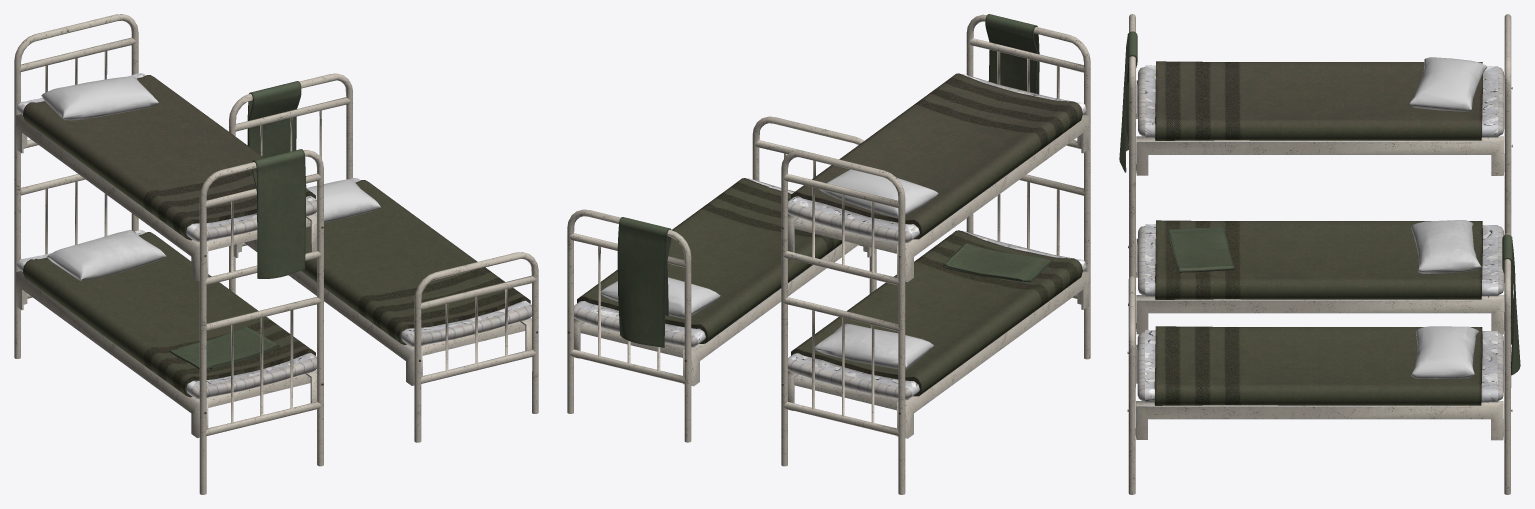
File: beds.glb
3 views of the same model, side by side, from view 1: azimuth 30°, elevation 25°; view 2: azimuth 150°, elevation 25°; view 3: azimuth 270°, elevation 25° (orthographic).
Parts seen in each view (by area): view 1: parent_bed_4_two_bed_cover_towl_0, parent_bed_4_two_bed_cover_0, parent_bed_4_one_bed_cover_0, parent_bed_4_two_bed_legs_0, parent_bed_4_two_bed_matt_towl_pill_0, parent_bed_4_one_bed_legs_0, parent_bed_4_two_bed_base_0, parent_bed_4_one_bed_matt_towl_pill_0, parent_bed_4_two_bed_matt_pill_0, parent_bed_4_one_bed_base_0, parent_bed_4_two_bed_bolts_veil_0, parent_bed_4_one_bed_bolts_veil_0; view 2: parent_bed_4_two_bed_cover_0, parent_bed_4_two_bed_cover_towl_0, parent_bed_4_two_bed_legs_0, parent_bed_4_one_bed_cover_0, parent_bed_4_two_bed_base_0, parent_bed_4_one_bed_matt_towl_pill_0, parent_bed_4_two_bed_matt_towl_pill_0, parent_bed_4_one_bed_legs_0, parent_bed_4_two_bed_matt_pill_0, parent_bed_4_one_bed_base_0, parent_bed_4_two_bed_bolts_veil_0, parent_bed_4_one_bed_bolts_veil_0; view 3: parent_bed_4_two_bed_cover_0, parent_bed_4_one_bed_cover_0, parent_bed_4_two_bed_cover_towl_0, parent_bed_4_two_bed_base_0, parent_bed_4_one_bed_base_0, parent_bed_4_two_bed_matt_towl_pill_0, parent_bed_4_one_bed_matt_towl_pill_0, parent_bed_4_two_bed_matt_pill_0, parent_bed_4_two_bed_bolts_veil_0, parent_bed_4_two_bed_legs_0, parent_bed_4_one_bed_legs_0, parent_bed_4_one_bed_bolts_veil_0.
Part boxes in pixels (box(x1,y1,x2,y2)): parent_bed_4_two_bed_cover_towl_0: box(23, 232, 315, 397); parent_bed_4_two_bed_cover_0: box(23, 75, 315, 240); parent_bed_4_one_bed_cover_0: box(301, 180, 530, 344); parent_bed_4_two_bed_legs_0: box(14, 14, 323, 494); parent_bed_4_two_bed_matt_towl_pill_0: box(18, 76, 316, 278); parent_bed_4_one_bed_legs_0: box(229, 73, 538, 442); parent_bed_4_two_bed_base_0: box(16, 114, 316, 438); parent_bed_4_one_bed_matt_towl_pill_0: box(247, 81, 531, 346); parent_bed_4_two_bed_matt_pill_0: box(18, 230, 316, 398); parent_bed_4_one_bed_base_0: box(230, 239, 531, 385); parent_bed_4_two_bed_bolts_veil_0: box(17, 73, 323, 414); parent_bed_4_one_bed_bolts_veil_0: box(351, 178, 538, 361); parent_bed_4_two_bed_cover_0: box(791, 73, 1082, 239); parent_bed_4_two_bed_cover_towl_0: box(791, 230, 1082, 396); parent_bed_4_two_bed_legs_0: box(781, 14, 1090, 494); parent_bed_4_one_bed_cover_0: box(577, 178, 841, 343); parent_bed_4_two_bed_base_0: box(788, 115, 1088, 438); parent_bed_4_one_bed_matt_towl_pill_0: box(574, 179, 794, 347); parent_bed_4_two_bed_matt_towl_pill_0: box(788, 14, 1086, 242); parent_bed_4_one_bed_legs_0: box(567, 116, 876, 442); parent_bed_4_two_bed_matt_pill_0: box(788, 231, 1086, 399); parent_bed_4_one_bed_base_0: box(574, 241, 874, 386); parent_bed_4_two_bed_bolts_veil_0: box(781, 74, 1086, 414); parent_bed_4_one_bed_bolts_veil_0: box(567, 178, 793, 361); parent_bed_4_two_bed_cover_0: box(1155, 61, 1482, 140); parent_bed_4_one_bed_cover_0: box(1154, 326, 1482, 405); parent_bed_4_two_bed_cover_towl_0: box(1155, 220, 1482, 299); parent_bed_4_two_bed_base_0: box(1136, 80, 1504, 334); parent_bed_4_one_bed_base_0: box(1135, 344, 1503, 440); parent_bed_4_two_bed_matt_towl_pill_0: box(1119, 31, 1504, 172); parent_bed_4_one_bed_matt_towl_pill_0: box(1137, 234, 1520, 401); parent_bed_4_two_bed_matt_pill_0: box(1137, 220, 1504, 295); parent_bed_4_two_bed_bolts_veil_0: box(1128, 65, 1512, 305); parent_bed_4_two_bed_legs_0: box(1129, 14, 1511, 387); parent_bed_4_one_bed_legs_0: box(1128, 233, 1510, 494); parent_bed_4_one_bed_bolts_veil_0: box(1127, 330, 1512, 411).
Bounding box in the file's own units: 3934 × 3476 × 3904.
14 materials, 14 textured.
